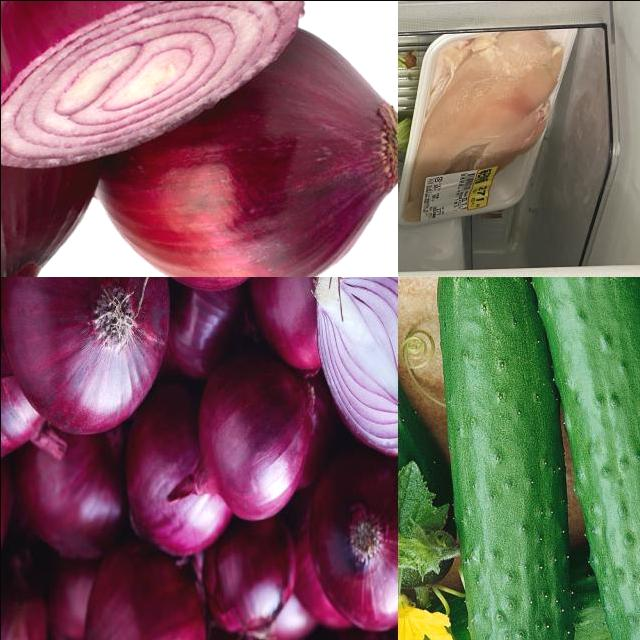cucumber: (433, 277, 580, 640), (527, 277, 640, 640), (398, 277, 443, 527)
onion: (95, 28, 398, 277), (1, 1, 298, 172), (1, 4, 106, 277), (3, 277, 168, 432), (172, 348, 316, 524), (126, 387, 230, 559), (314, 450, 398, 634), (318, 277, 398, 460), (75, 546, 206, 640), (1, 301, 53, 469)
